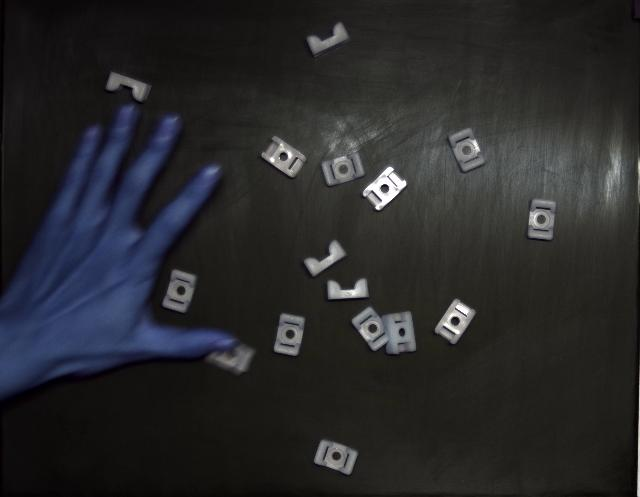first_side: (449, 128, 485, 172), (314, 440, 358, 475), (162, 270, 198, 312), (321, 152, 365, 186), (274, 314, 305, 356), (528, 199, 556, 241)
second_side: (362, 168, 406, 211), (261, 136, 306, 178), (435, 299, 475, 345)
third_side: (304, 240, 346, 278), (306, 22, 350, 58), (106, 71, 151, 102), (328, 279, 369, 300)
